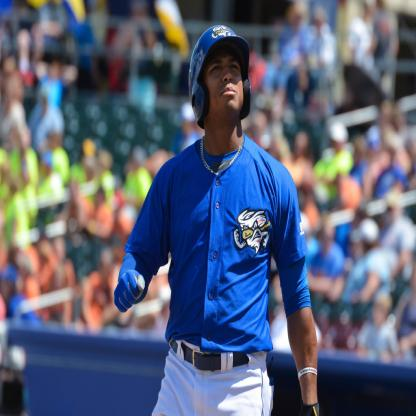Helmet: (187, 19, 250, 136)
